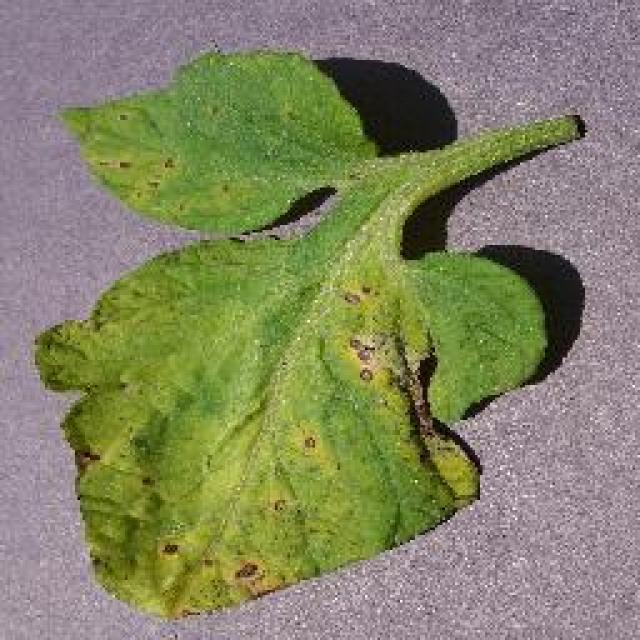Tomato___Septoria_leaf_spot: (35, 50, 582, 615)
